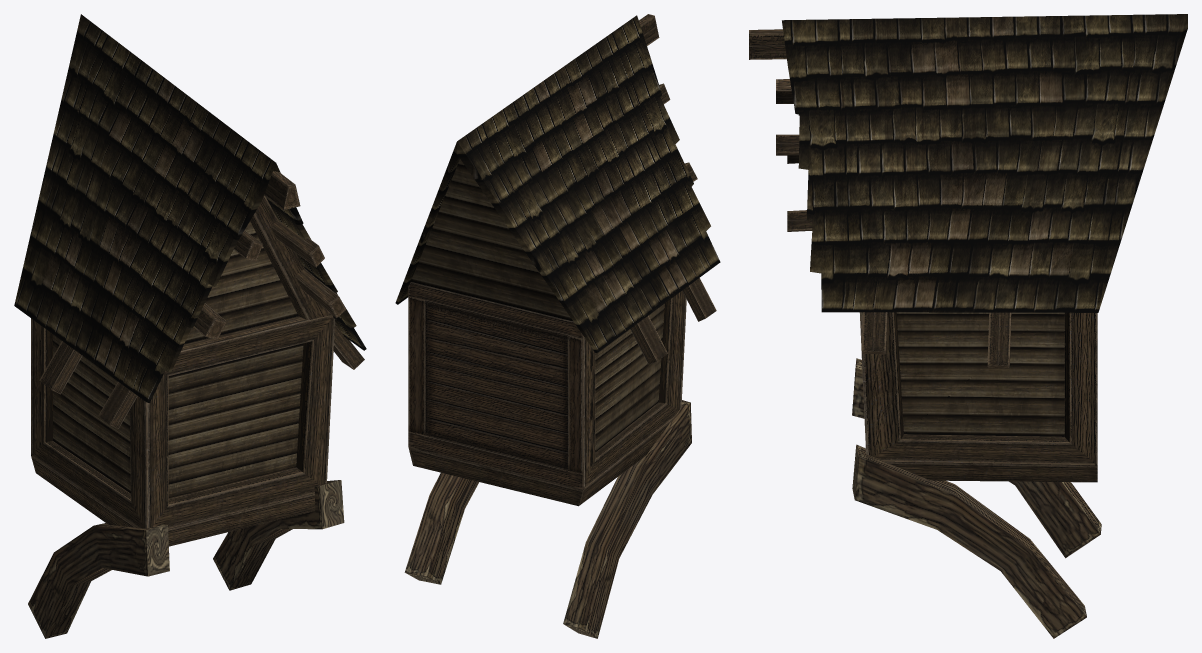
Rendered from Window_c03.fbx.
3 renders of one model, left to right at view 1: azimuth 30°, elevation 25°; view 2: azimuth 150°, elevation 25°; view 3: azimuth 270°, elevation 25°, orthographic. The views are drawn at different scales.
Visible parts, largest first — view 1: Window_c03; view 2: Window_c03; view 3: Window_c03.
Part boxes in pixels (x1=…): Window_c03: x1=14, y1=14, x2=366, y2=638; Window_c03: x1=395, y1=14, x2=720, y2=638; Window_c03: x1=749, y1=14, x2=1187, y2=638.
Bounding box in the file's own units: 3.76 × 7.68 × 5.25.
